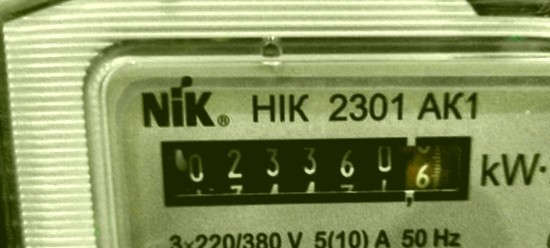0: (184, 149, 206, 182), (375, 141, 393, 172)
2: (222, 145, 246, 179)
3: (260, 144, 282, 176), (299, 142, 319, 174)
6: (335, 144, 356, 177), (410, 158, 432, 187)
screen: (141, 116, 485, 221)
